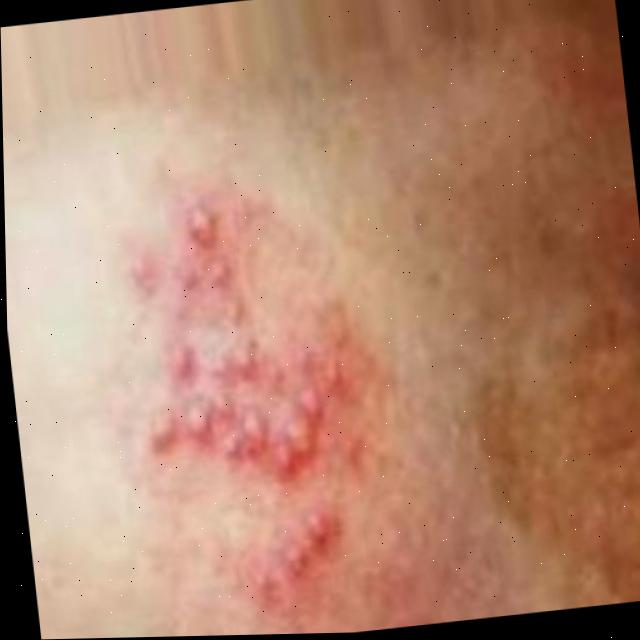Shingles: (105, 185, 378, 615)
